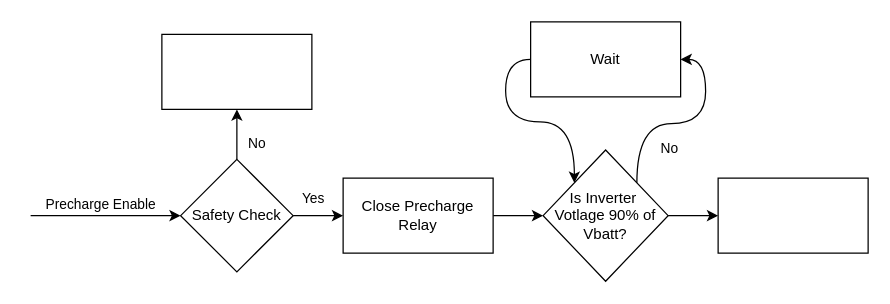
This 890x304 diagram has some shape labels left out. The shapes that lost their labels are listed below. From the top down, each one's centre as x and y in pixels, then its label:
At point (236, 71): "Fault".
At point (792, 215): "Clsoe AIR+".
